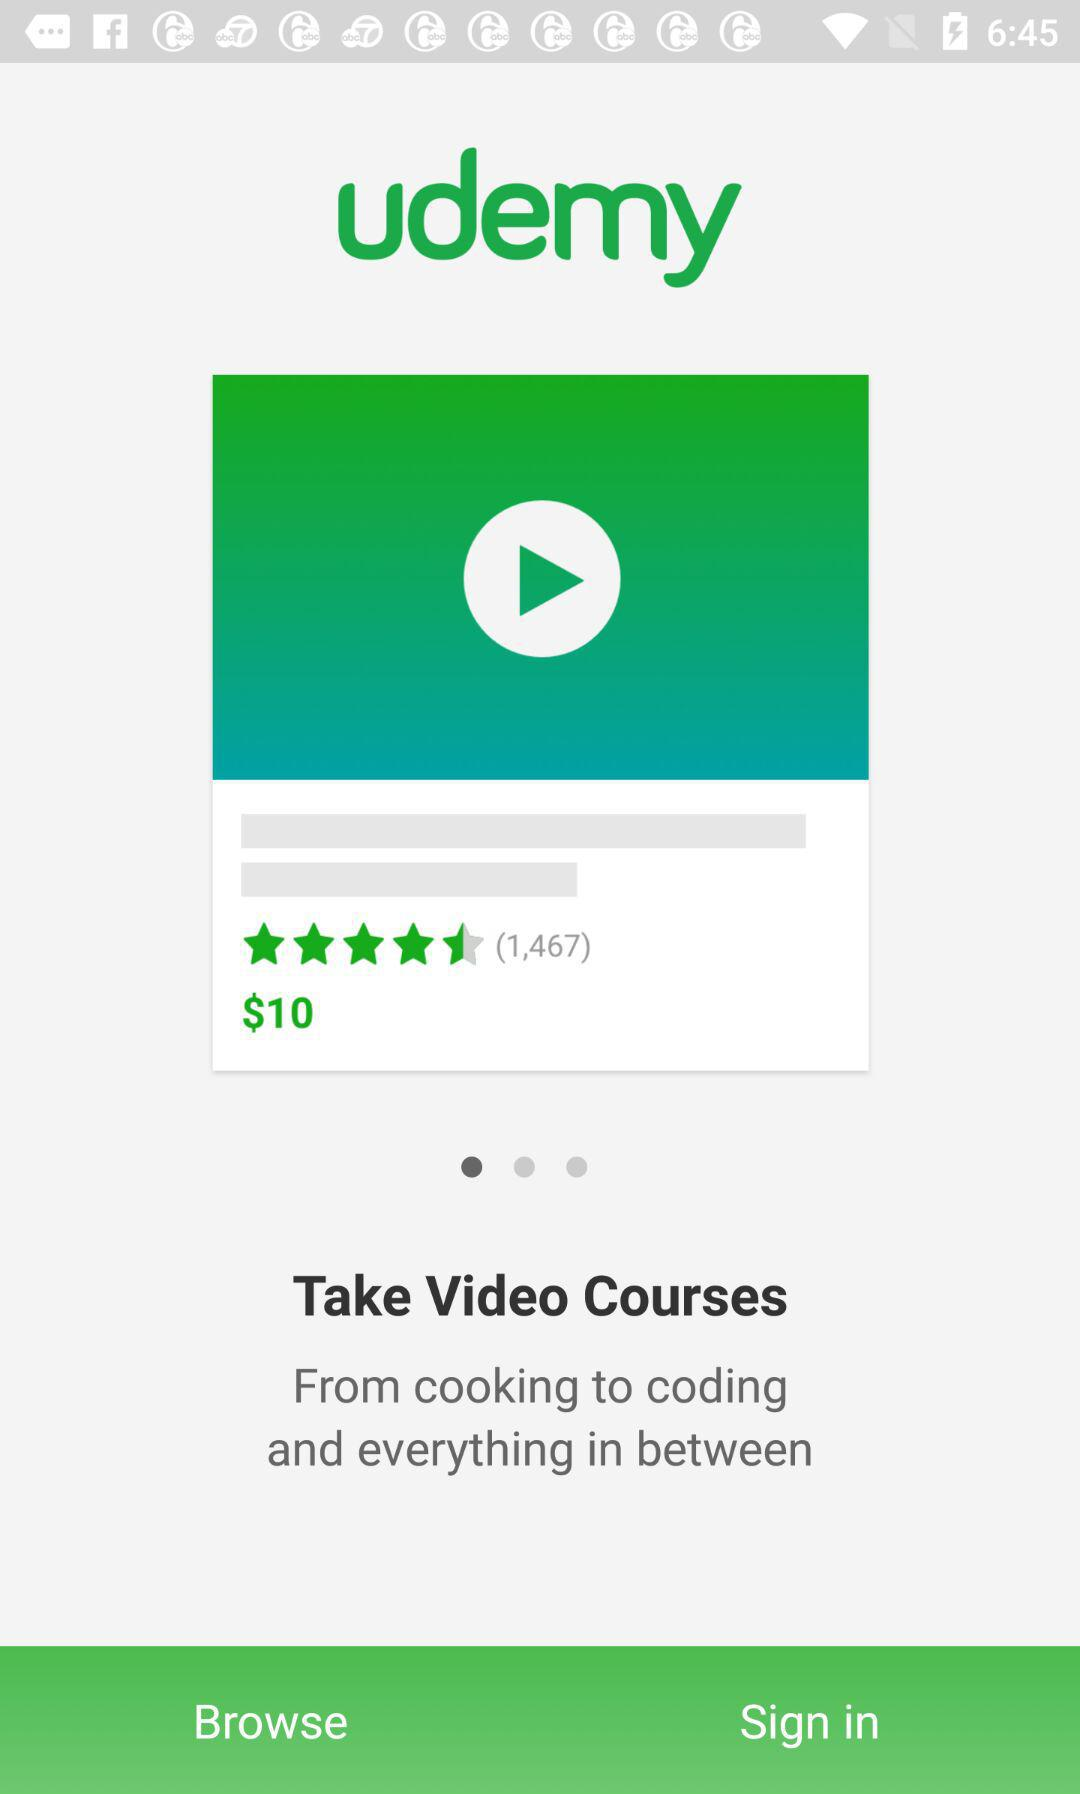Image: (211, 374, 872, 1074)
PageIndicator: (460, 1155, 591, 1180)
Text: (268, 1366, 814, 1477), (336, 144, 740, 288), (292, 1272, 788, 1319)
TextButton: (1, 1647, 542, 1794), (543, 1647, 1080, 1794)
UpperTaskBar: (1, 1, 1080, 64)
